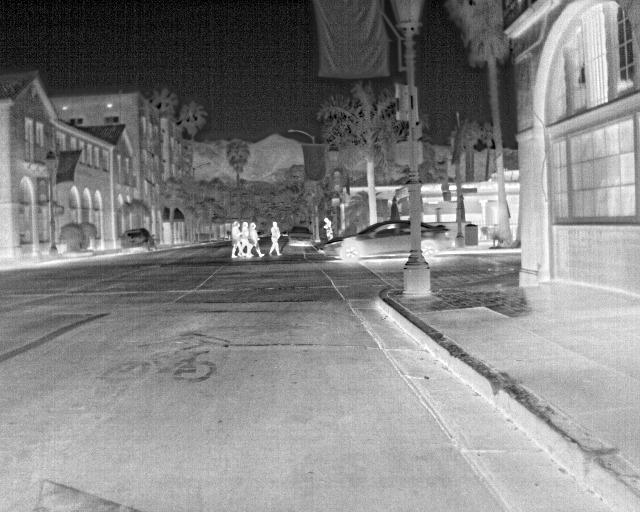bicycle: (320, 217, 411, 260), (419, 220, 451, 260), (118, 226, 156, 254), (287, 224, 315, 246)
empty: (251, 220, 268, 257), (240, 219, 255, 258), (268, 220, 284, 255), (229, 220, 242, 263), (320, 216, 336, 243)
